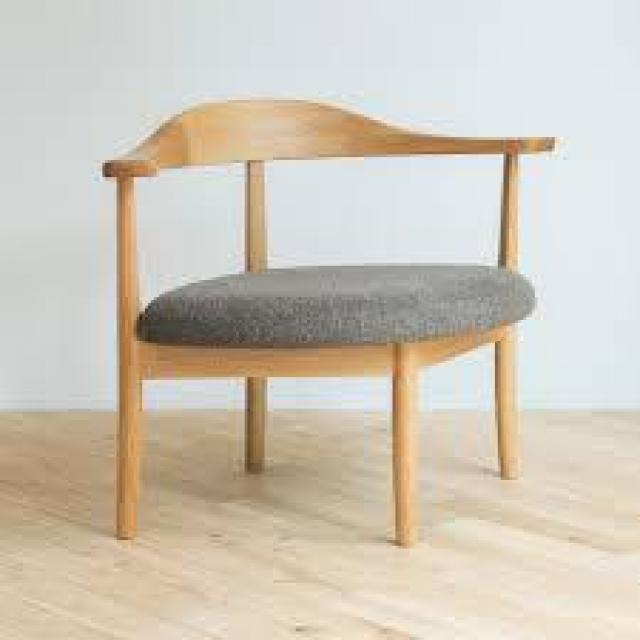chair: (51, 53, 558, 561)
